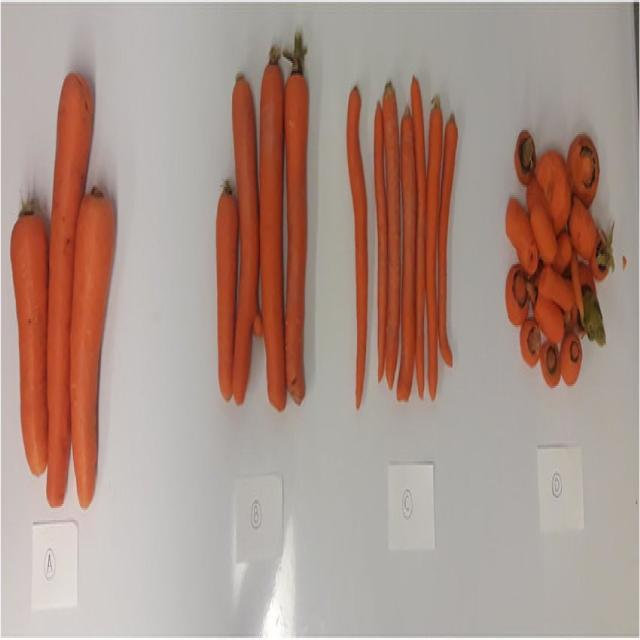Wet: (46, 71, 96, 512), (70, 182, 116, 508), (9, 185, 49, 480), (259, 41, 287, 415), (283, 26, 310, 412), (232, 71, 260, 406), (396, 108, 419, 401), (346, 90, 367, 409), (383, 81, 403, 388), (409, 67, 427, 400), (437, 112, 459, 368), (216, 176, 239, 401), (427, 97, 443, 401), (373, 100, 385, 385), (535, 146, 572, 233), (504, 196, 538, 278), (568, 130, 600, 207), (539, 261, 574, 317), (505, 260, 530, 330), (513, 128, 536, 188), (592, 228, 615, 283), (560, 329, 582, 386), (519, 316, 542, 370), (542, 336, 560, 389)
